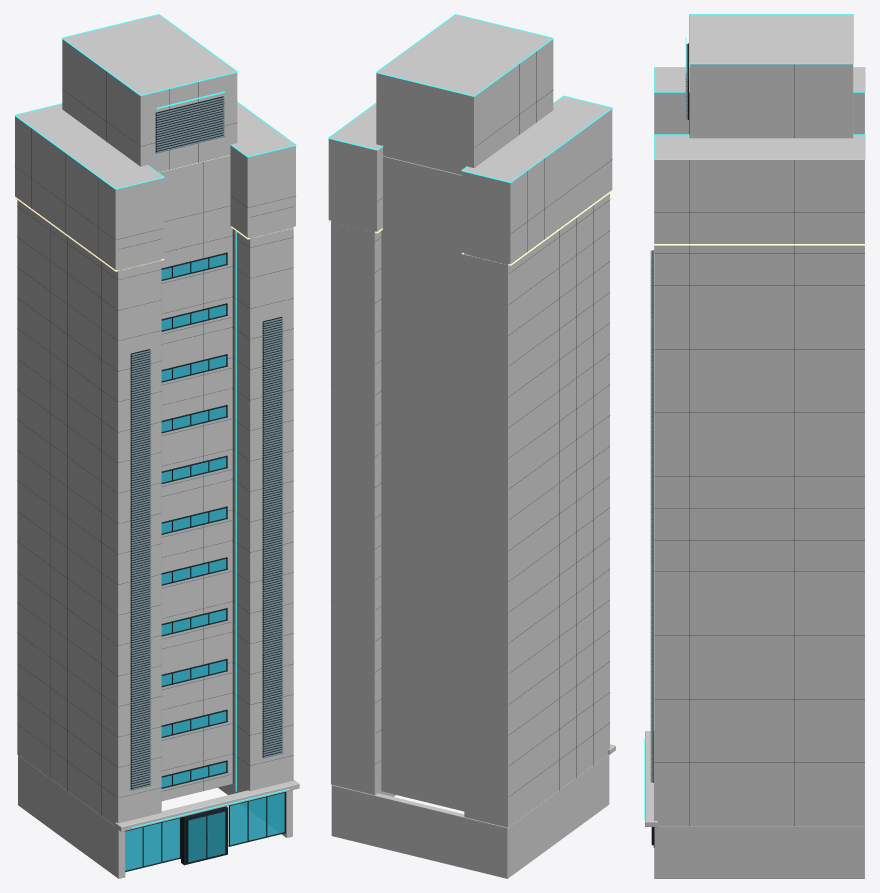
File: building_07.glb
The picture shows the model from 3 angles, left to right: view 1: azimuth 30°, elevation 25°; view 2: azimuth 150°, elevation 25°; view 3: azimuth 270°, elevation 25°; orthographic projection. The views are drawn at different scales.
Visible parts, largest first — view 1: Skyscraper side piers, Skyscraper central shaft, Side crown overhangs, Vent louvers.004, Tall recessed crown, Window glazing.006, Vent backing.004, Facade panel seams.006, Ground level columns.004, Window mullions.006, Entrance recess.006, Shop canopy.004 (+3 smaller); view 2: Skyscraper side piers, Skyscraper central shaft, Tall recessed crown, Side crown overhangs, Ground level rear wall.004, Ground level columns.004, Facade panel seams.006, Cyan roof edges.006; view 3: Skyscraper side piers, Side crown overhangs, Tall recessed crown, Ground level columns.004, Facade panel seams.006, Vent louvers.004, Cyan roof edges.006, Vent backing.004, Shop canopy.004.
Part boxes in pixels (x1=…): Skyscraper side piers: x1=17, y1=177, x2=293, y2=825; Skyscraper central shaft: x1=158, y1=155, x2=232, y2=800; Side crown overhangs: x1=15, y1=102, x2=295, y2=269; Vent louvers.004: x1=131, y1=97, x2=283, y2=790; Tall recessed crown: x1=62, y1=15, x2=237, y2=172; Window glazing.006: x1=125, y1=254, x2=284, y2=870; Vent backing.004: x1=130, y1=96, x2=282, y2=790; Facade panel seams.006: x1=15, y1=72, x2=295, y2=815; Ground level columns.004: x1=18, y1=756, x2=292, y2=878; Window mullions.006: x1=125, y1=252, x2=285, y2=871; Entrance recess.006: x1=181, y1=806, x2=227, y2=865; Shop canopy.004: x1=115, y1=780, x2=299, y2=831; Skyscraper side piers: x1=331, y1=170, x2=609, y2=827; Skyscraper central shaft: x1=381, y1=156, x2=464, y2=811; Tall recessed crown: x1=376, y1=14, x2=553, y2=174; Side crown overhangs: x1=328, y1=96, x2=612, y2=264; Ground level rear wall.004: x1=331, y1=785, x2=510, y2=878; Ground level columns.004: x1=331, y1=754, x2=609, y2=878; Facade panel seams.006: x1=375, y1=51, x2=612, y2=796; Cyan roof edges.006: x1=328, y1=14, x2=612, y2=182; Skyscraper side piers: x1=654, y1=245, x2=864, y2=826; Side crown overhangs: x1=654, y1=67, x2=864, y2=243; Tall recessed crown: x1=689, y1=14, x2=853, y2=138; Ground level columns.004: x1=654, y1=826, x2=864, y2=878; Facade panel seams.006: x1=654, y1=64, x2=864, y2=825; Vent louvers.004: x1=650, y1=44, x2=687, y2=782; Cyan roof edges.006: x1=654, y1=14, x2=865, y2=159; Vent backing.004: x1=652, y1=43, x2=688, y2=782; Shop canopy.004: x1=645, y1=731, x2=657, y2=826.
Bounding box in the file's own units: 18.67 × 75.23 × 18.9.
